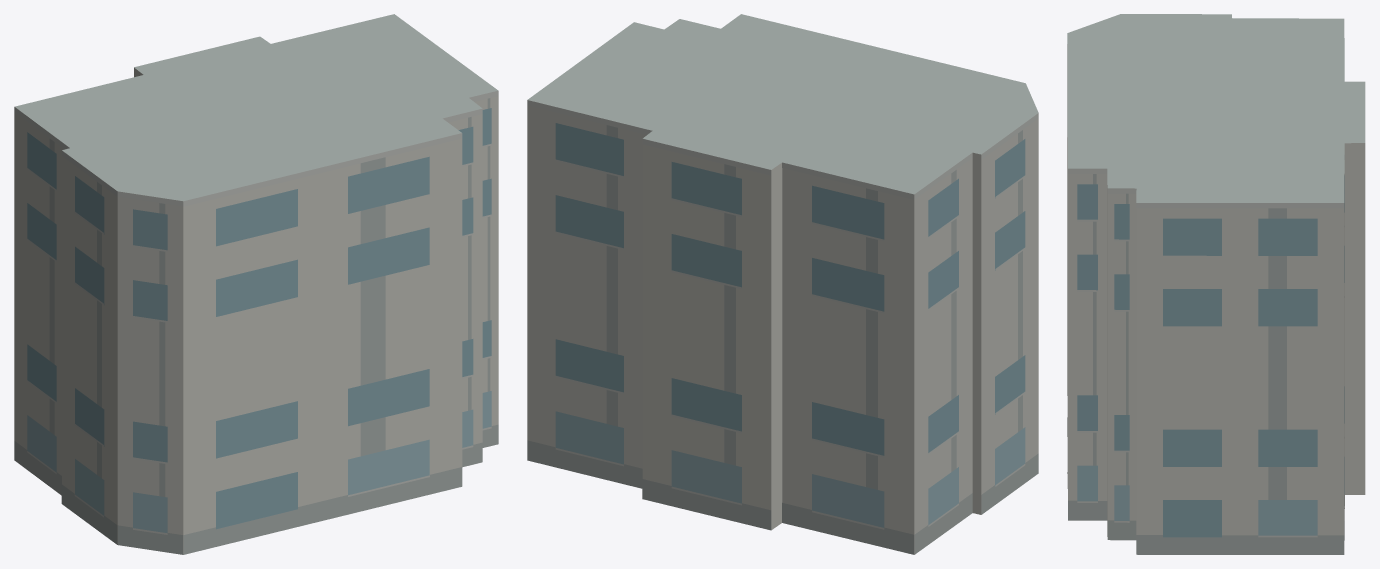
Rendered from survey-upis-33028768.glb.
3 renders of one model, left to right at view 1: azimuth 30°, elevation 25°; view 2: azimuth 150°, elevation 25°; view 3: azimuth 270°, elevation 25°, orthographic. The views are drawn at different scales.
Visible parts, largest first — view 1: survey-upis-33028768.tmp; view 2: survey-upis-33028768.tmp; view 3: survey-upis-33028768.tmp.
Part boxes in pixels (x1,y1,x2,y2): survey-upis-33028768.tmp: (14,14,498,554); survey-upis-33028768.tmp: (527,14,1038,554); survey-upis-33028768.tmp: (1067,14,1365,554).
Bounding box in the file's own units: 18.34 × 15.9 × 12.22.
